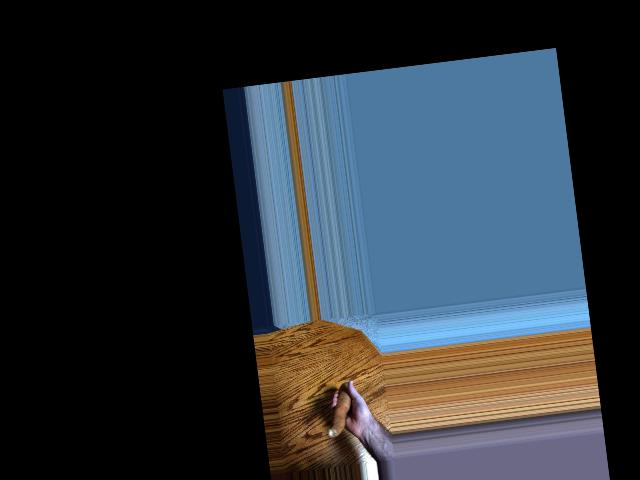sweet_potato: (323, 382, 358, 440)
